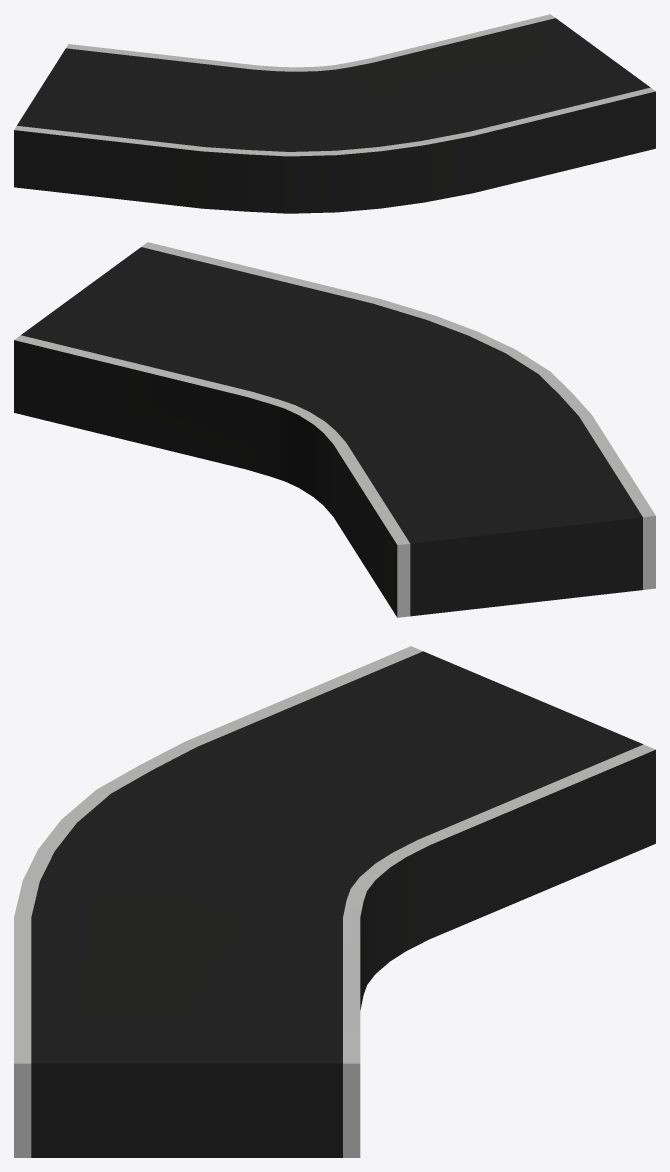
Rendered from SM_Road_Turn_45_Right.fbx.
3 views of the same model, one above another, from view 1: azimuth 30°, elevation 25°; view 2: azimuth 150°, elevation 25°; view 3: azimuth 270°, elevation 25° (orthographic). The views are drawn at different scales.
Parts seen in each view (by area): view 1: SM_Road_Turn_45_Right; view 2: SM_Road_Turn_45_Right; view 3: SM_Road_Turn_45_Right.
Boxes of the visible parts, x1,y1,x2,y2 form: SM_Road_Turn_45_Right: (14, 14, 655, 213); SM_Road_Turn_45_Right: (14, 242, 655, 617); SM_Road_Turn_45_Right: (14, 646, 655, 1157).
Size of the model in its own units: 2854 by 300 by 1854.
